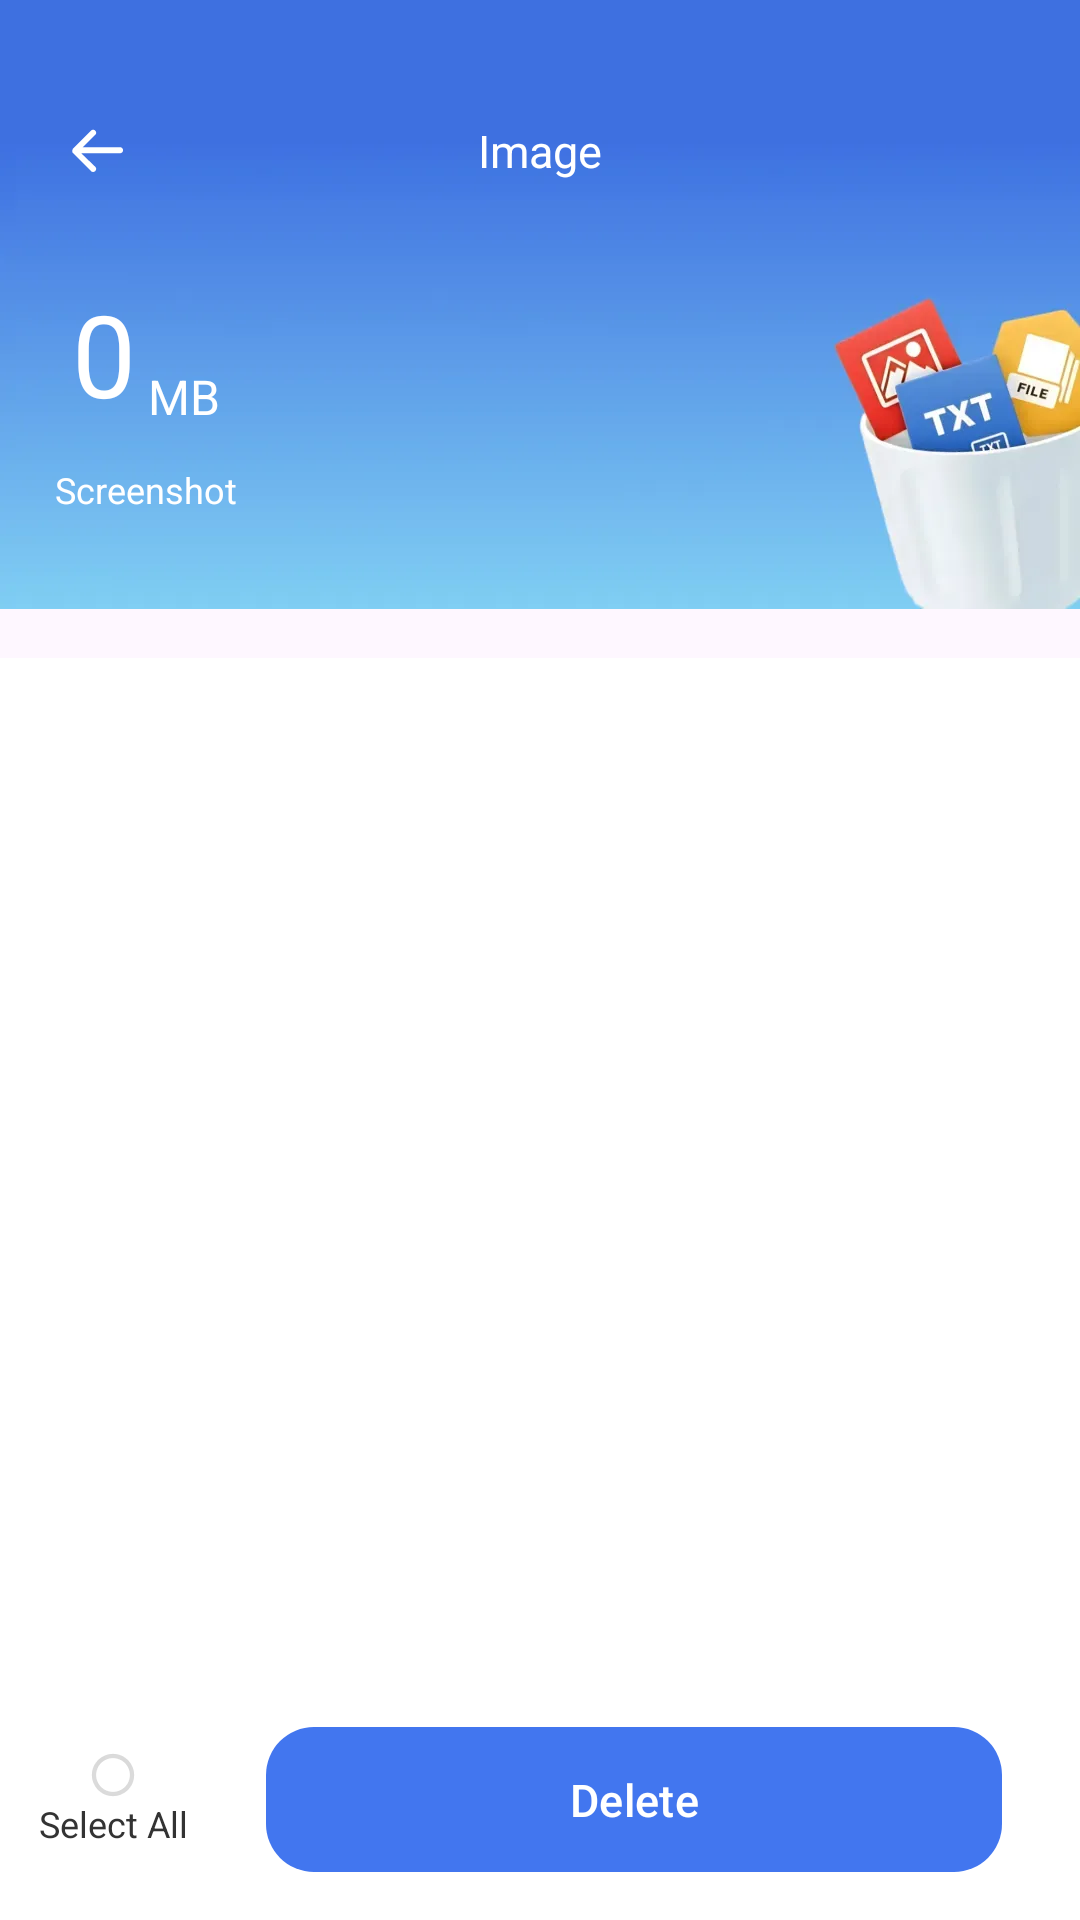

Screen size 1080 × 1920. Icon name, then its box in pixels as (x1, y1, x2, y2):
back tui: (72, 129, 123, 172)
discheck: (92, 1754, 134, 1796)
